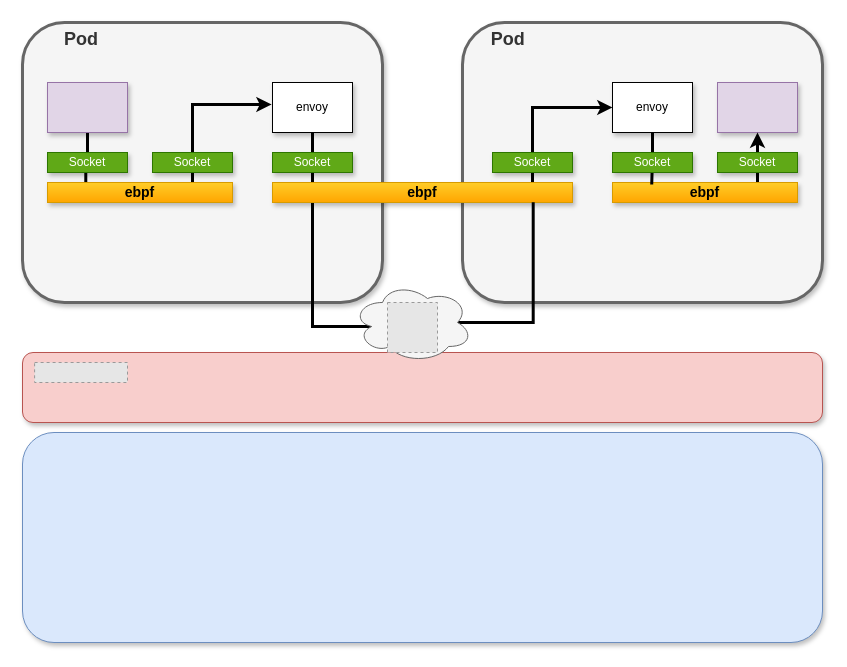
Some shapes in this 847 by 667 pixel diagram are drawn without their labels. Grey dashed boxes stand in for pictures. Here are the shapes that lost their labels. From the top down, the centre of each, then its label:
At pixel 88 109: "Nighhawk client".
At pixel 758 109: "Nighthawk Server".
At pixel 423 539: "Host: version".
